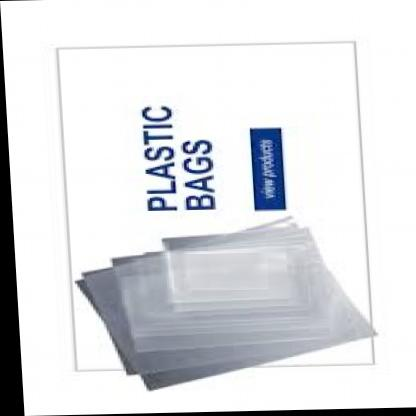Plastic: (51, 202, 392, 392)
